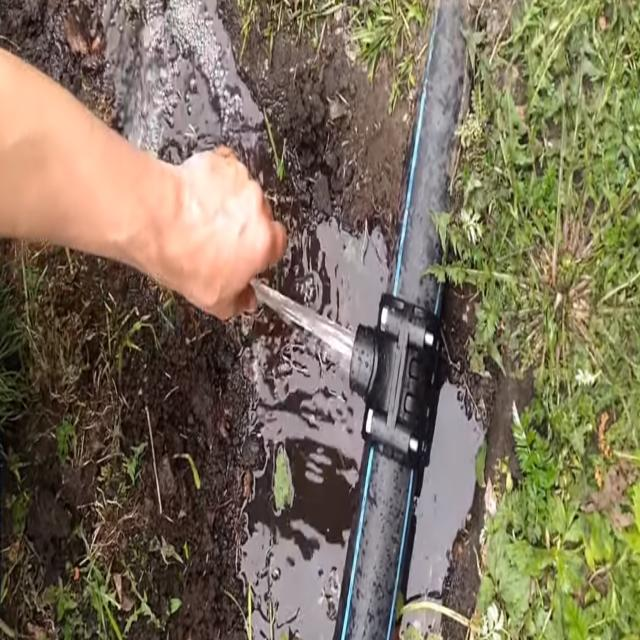leak: (252, 278, 355, 362)
